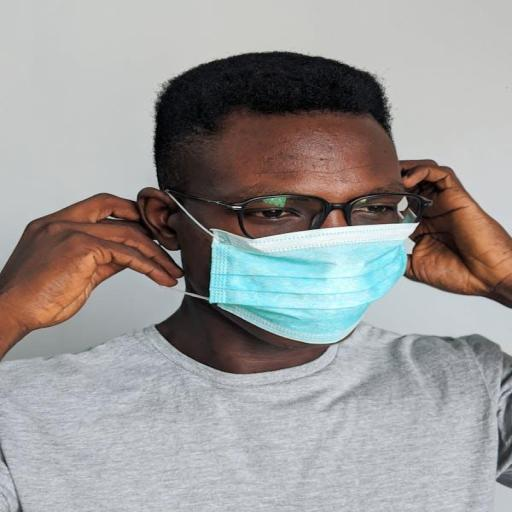mask: (152, 90, 438, 342)
